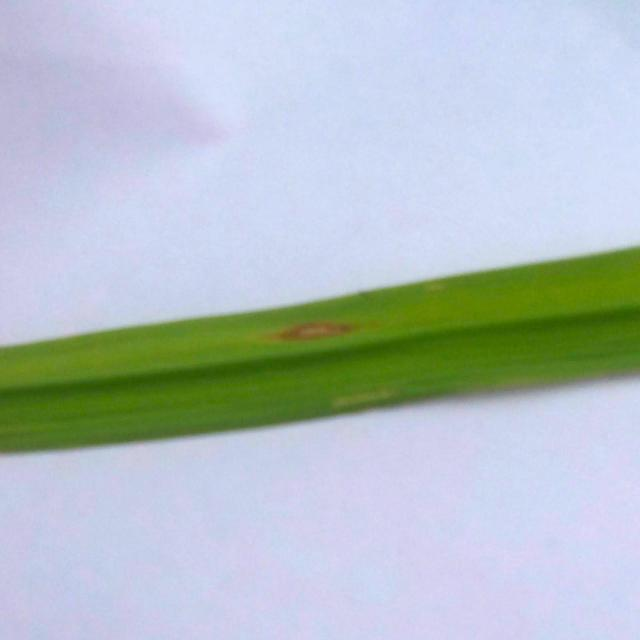Leaf blast: (0, 205, 640, 533)
